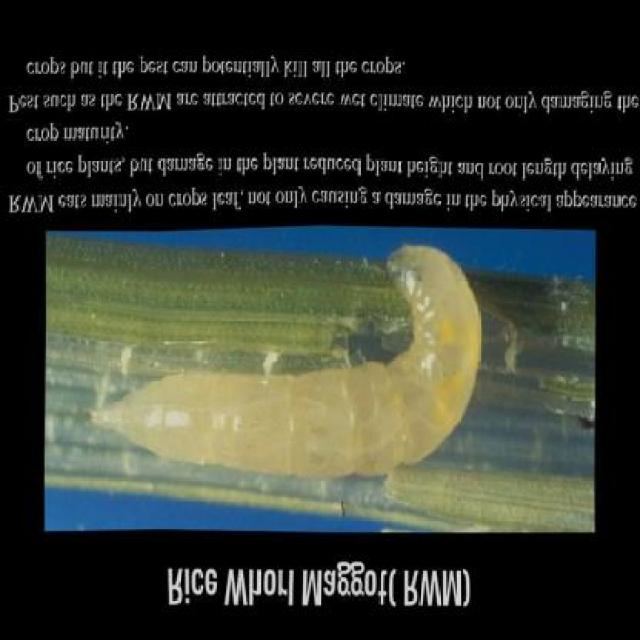whorl-maggot: (82, 243, 486, 485)
